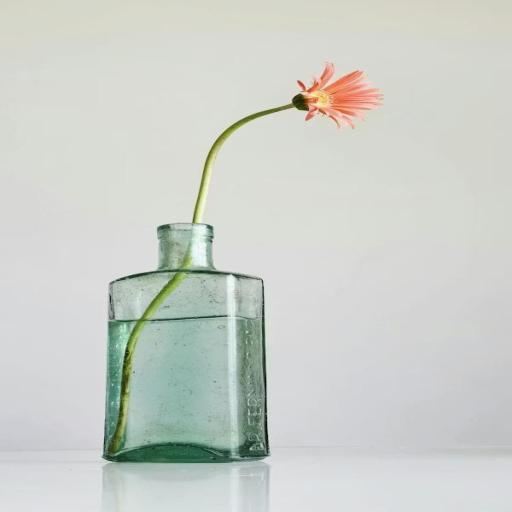bottle: (87, 214, 282, 474)
